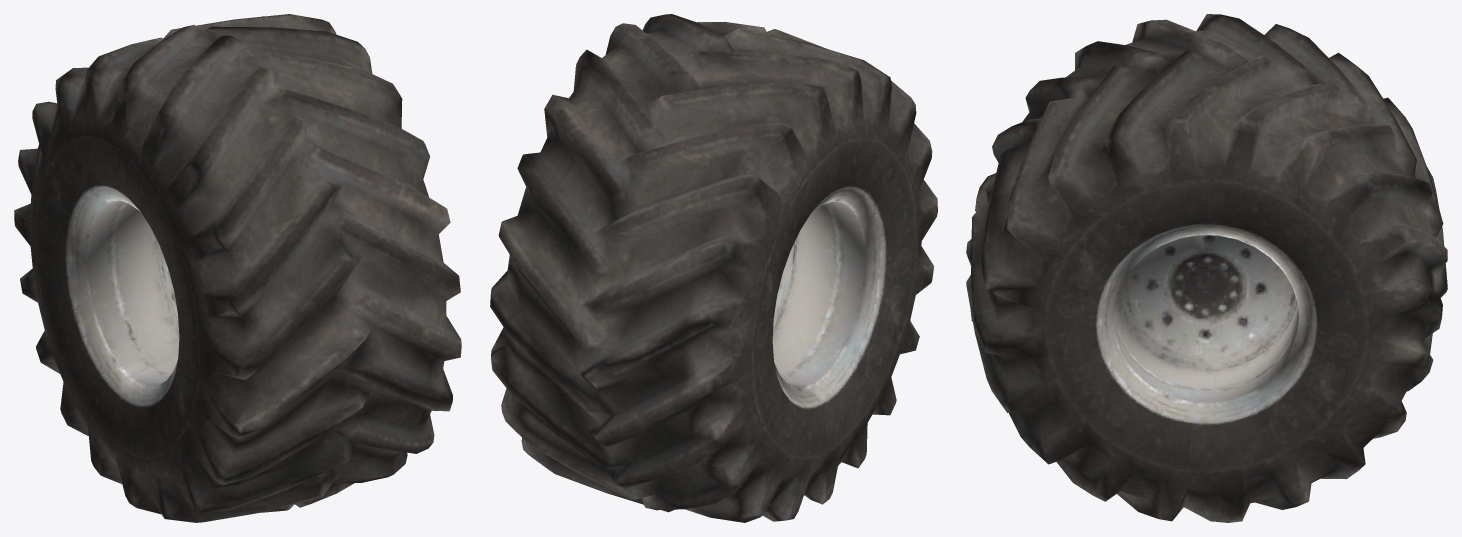
The model's file is mtruck_wheel.obj.
3 views of the same model, side by side, from view 1: azimuth 30°, elevation 25°; view 2: azimuth 150°, elevation 25°; view 3: azimuth 270°, elevation 25° (orthographic). The views are drawn at different scales.
Parts seen in each view (by area): view 1: Monster_TruckTextured.003; view 2: Monster_TruckTextured.003; view 3: Monster_TruckTextured.003.
Boxes of the visible parts, x1=… form: Monster_TruckTextured.003: x1=14, y1=14, x2=461, y2=522; Monster_TruckTextured.003: x1=490, y1=14, x2=937, y2=522; Monster_TruckTextured.003: x1=966, y1=14, x2=1447, y2=522.
Size of the model in its own units: 1.13 by 2 by 2.
Materials: 1 (1 with a texture image).
